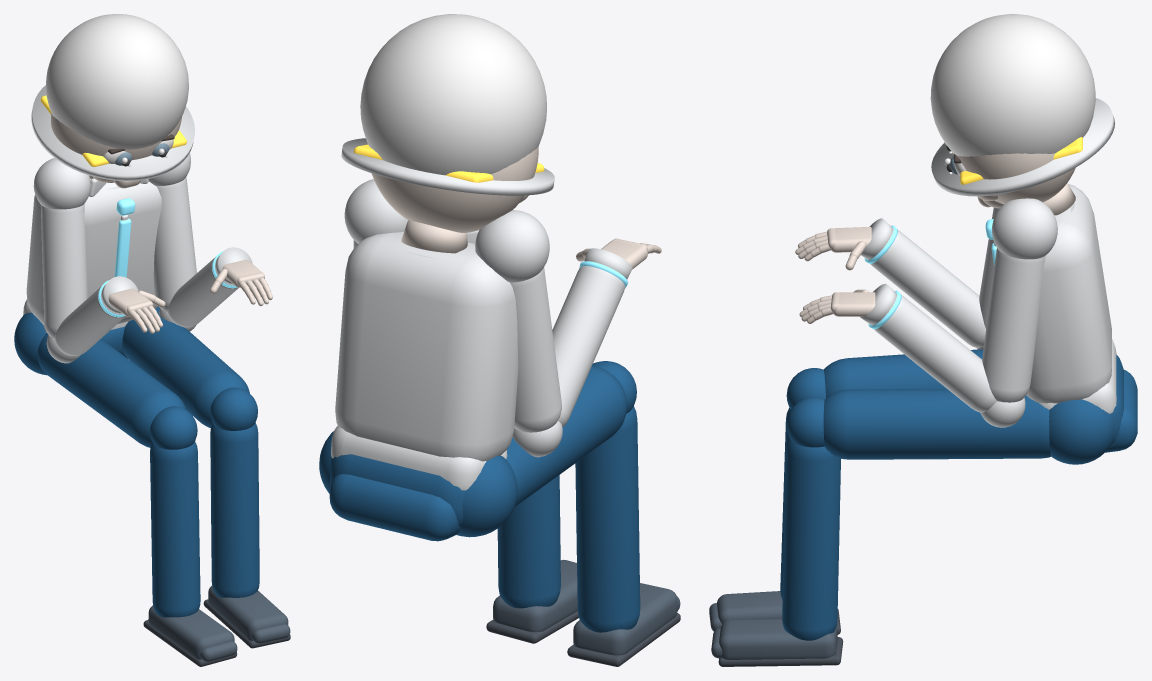
File: lead-figure-hardhat.glb
3 renders of one model, left to right at view 1: azimuth 30°, elevation 25°; view 2: azimuth 150°, elevation 25°; view 3: azimuth 270°, elevation 25°, orthographic. The views are drawn at different scales.
Parts seen in each view (by area): view 1: HatDome, LowerLeg_L, LowerLeg_R, Shirt, UpperLeg_L, UpperLeg_R, UpperArm_L, UpperArm_R, HatBrim, ForeArm_L, Foot_L, ForeArm_R (+17 smaller); view 2: Shirt, HatDome, LowerLeg_L, LowerLeg_R, UpperLeg_L, ForeArm_L, UpperArm_L, SeatMass, Head, Shoulder_L, HatBrim, ShirtTail (+14 smaller); view 3: HatDome, UpperLeg_R, Shirt, LowerLeg_R, UpperArm_R, ForeArm_R, ForeArm_L, HatBrim, Foot_R, Hip_R, UpperLeg_L, Shoulder_R (+14 smaller).
Boxes of the visible parts, box(x1,y1,x2,y2) form: HatDome: box(46, 14, 188, 149); LowerLeg_L: box(150, 441, 200, 617); LowerLeg_R: box(210, 422, 259, 597); Shirt: box(26, 179, 161, 324); UpperLeg_L: box(37, 333, 186, 447); UpperLeg_R: box(122, 306, 249, 428); UpperArm_L: box(41, 204, 87, 337); UpperArm_R: box(153, 177, 196, 311); HatBrim: box(31, 85, 194, 180); ForeArm_L: box(55, 285, 125, 355); Foot_L: box(148, 605, 234, 659); ForeArm_R: box(167, 257, 238, 327); Shirt: box(335, 231, 518, 461); HatDome: box(360, 14, 546, 175); LowerLeg_L: box(575, 406, 640, 632); LowerLeg_R: box(497, 475, 560, 608); UpperLeg_L: box(506, 366, 627, 507); ForeArm_L: box(552, 266, 625, 427); UpperArm_L: box(510, 267, 561, 432); SeatMass: box(329, 474, 459, 541); Head: box(367, 142, 538, 232); Shoulder_L: box(475, 210, 549, 282); HatBrim: box(341, 138, 554, 195); ShirtTail: box(330, 426, 507, 490); HatDome: box(930, 14, 1095, 156); UpperLeg_R: box(823, 389, 1050, 459); Shirt: box(1026, 184, 1111, 403); LowerLeg_R: box(782, 437, 840, 640); UpperArm_R: box(982, 248, 1045, 402); ForeArm_R: box(871, 293, 996, 412); ForeArm_L: box(867, 227, 985, 348); HatBrim: box(931, 98, 1114, 196); Foot_R: box(719, 619, 837, 659); Hip_R: box(1049, 399, 1114, 464); UpperLeg_L: box(823, 349, 983, 397); Shoulder_R: box(992, 198, 1057, 259).
Bounding box in the file's own units: 0.3756 × 1.29 × 0.8047.
